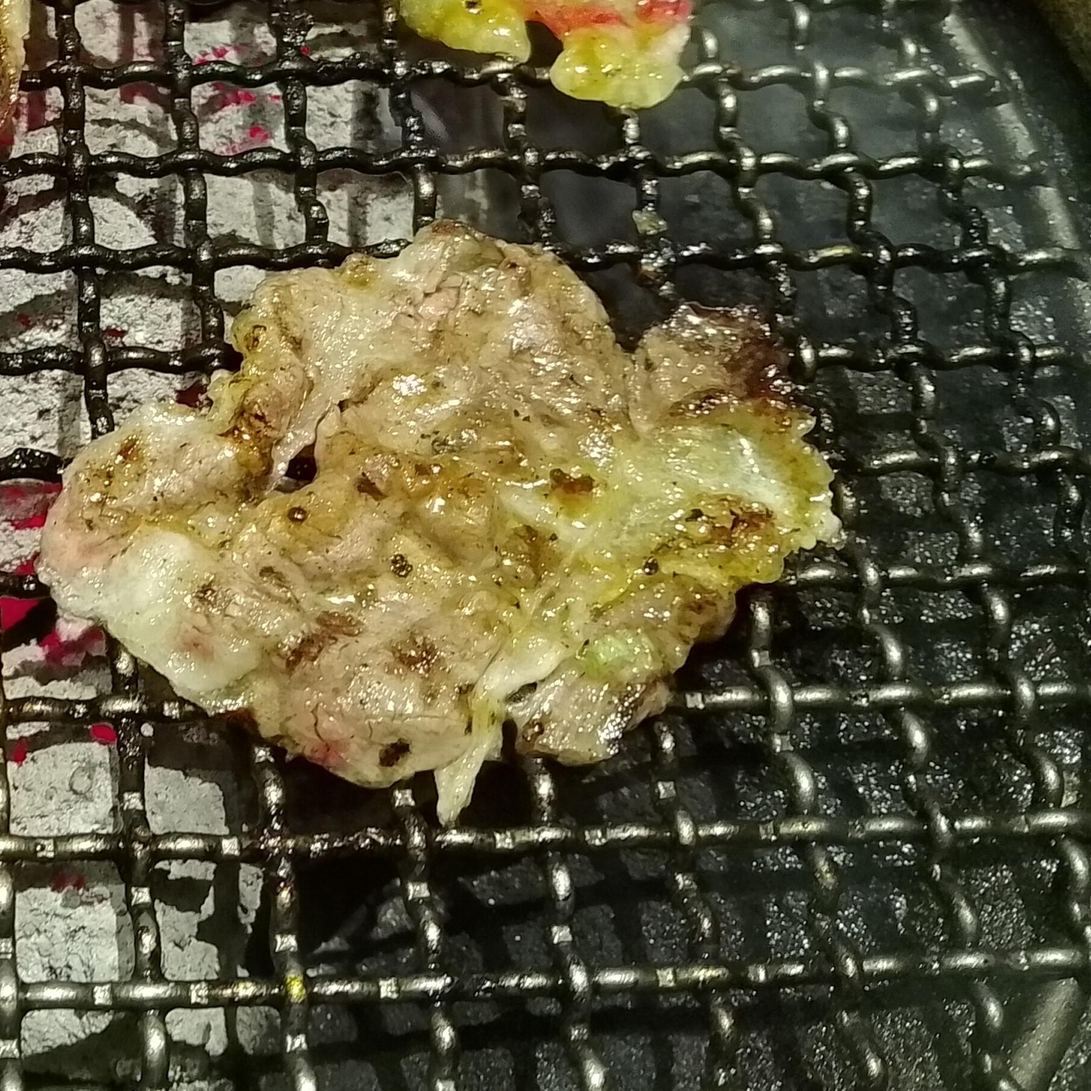Undercooked: (398, 0, 693, 110)
Well-Cooked: (40, 221, 839, 824)
